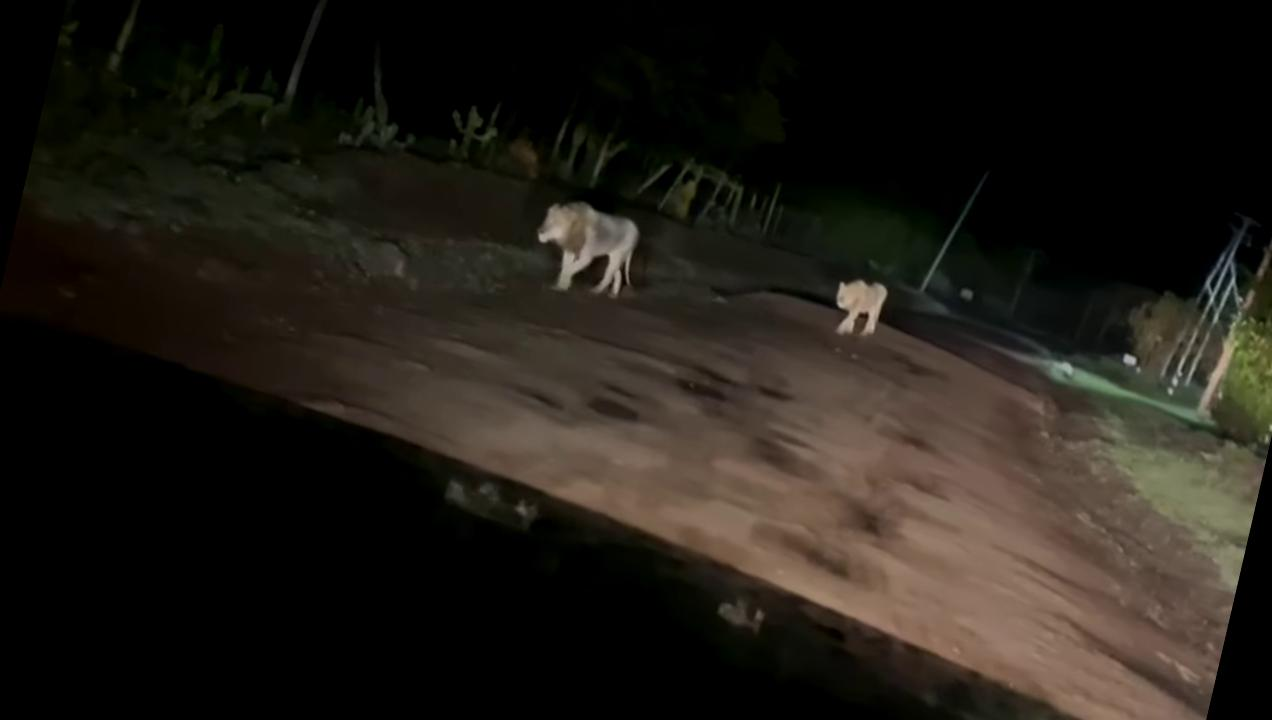lions: (512, 174, 674, 314), (808, 250, 937, 373)
